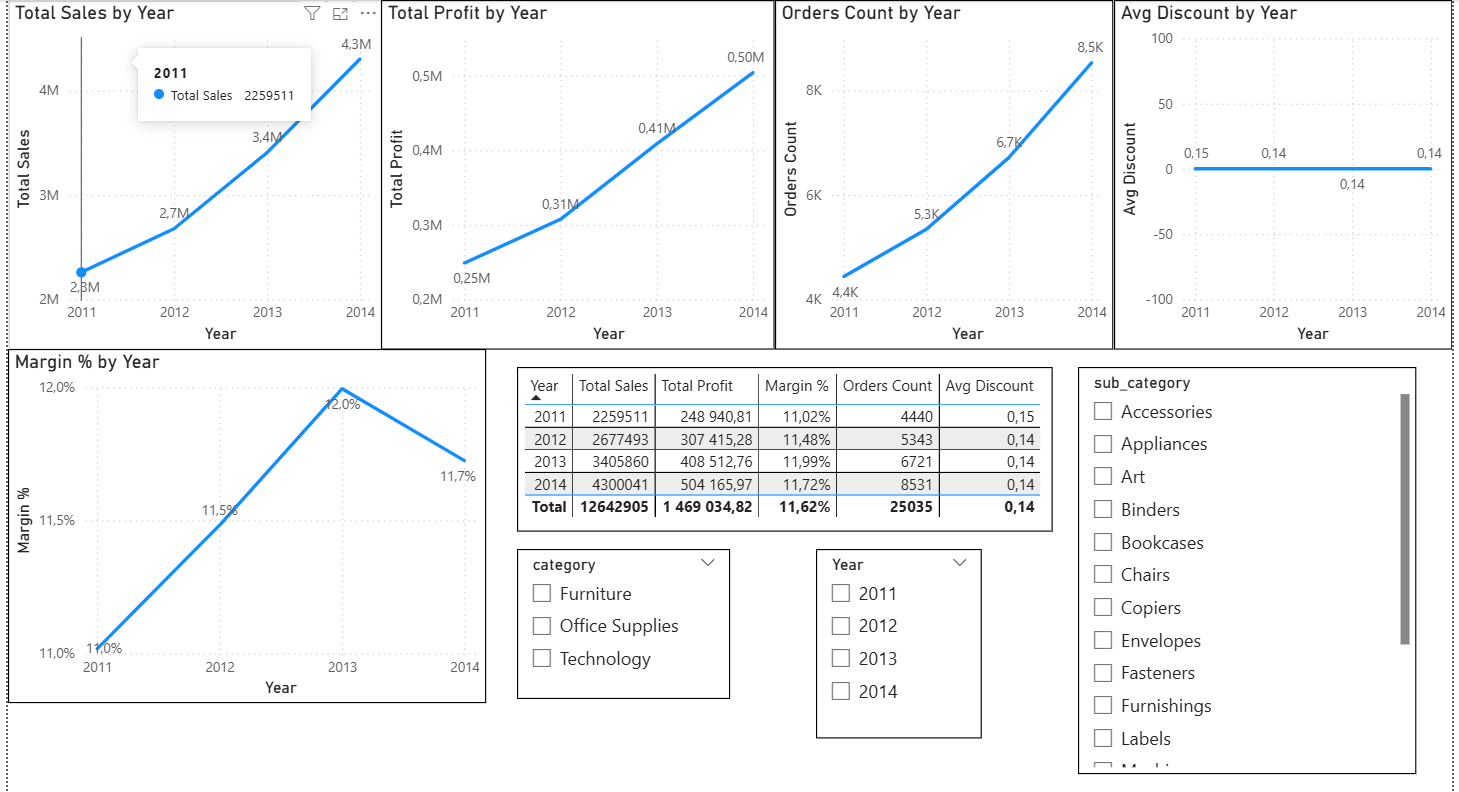

This screenshot's page, from the dashboard's own definition file:
{"tool":"powerbi","page":{"name":"Business Growth","canvas":[1280,720],"ordinal":11},"visuals":[{"type":"lineChart","fields":{"Category":["orders_view.order_date.Variation.Date Hierarchy.Year"],"Y":["orders_view.Total Sales"]},"box":[0,0,330.9,309.5],"z":0},{"type":"lineChart","fields":{"Category":["orders_view.order_date.Variation.Date Hierarchy.Year"],"Y":["orders_view.Total Profit"]},"box":[330.9,0,348.8,309.5],"z":1},{"type":"lineChart","fields":{"Category":["orders_view.order_date.Variation.Date Hierarchy.Year"],"Y":["orders_view.Orders Count"]},"box":[679.7,0,299.7,309.5],"z":2},{"type":"lineChart","fields":{"Category":["orders_view.order_date.Variation.Date Hierarchy.Year"],"Y":["orders_view.Avg Discount"]},"box":[980.3,0,299.7,309.5],"z":3},{"type":"lineChart","fields":{"Category":["orders_view.order_date.Variation.Date Hierarchy.Year"],"Y":["orders_view.Margin %"]},"box":[0,309.5,423.7,314],"z":4},{"type":"tableEx","fields":{"Values":["orders_view.order_date.Variation.Date Hierarchy.Year","orders_view.Total Sales","orders_view.Total Profit","orders_view.Margin %","orders_view.Orders Count","orders_view.Avg Discount"]},"box":[451.3,325.6,475.4,146.3],"z":5},{"type":"slicer","fields":{"Values":["orders_view.order_date.Variation.Date Hierarchy.Year"]},"box":[716.3,487,147.2,167.7],"z":6},{"type":"slicer","fields":{"Values":["orders_view.category"]},"box":[451.3,487,189.1,132.9],"z":7},{"type":"slicer","fields":{"Values":["orders_view.sub_category"]},"box":[949.1,325.6,299.7,361.3],"z":8}]}

Visuals, with their boxes in screenshot pixels (x1, y1, x2, y2):
lineChart - orders_view.order_date.Variation.Date Hierarchy.Year x orders_view.Total Sales: detection(8, 0, 379, 347)
lineChart - orders_view.order_date.Variation.Date Hierarchy.Year x orders_view.Total Profit: detection(379, 0, 770, 347)
lineChart - orders_view.order_date.Variation.Date Hierarchy.Year x orders_view.Orders Count: detection(770, 0, 1107, 347)
lineChart - orders_view.order_date.Variation.Date Hierarchy.Year x orders_view.Avg Discount: detection(1108, 0, 1444, 347)
lineChart - orders_view.order_date.Variation.Date Hierarchy.Year x orders_view.Margin %: detection(8, 347, 483, 700)
tableEx - orders_view.order_date.Variation.Date Hierarchy.Year x orders_view.Total Sales: detection(514, 365, 1048, 530)
slicer - orders_view.order_date.Variation.Date Hierarchy.Year: detection(811, 547, 977, 735)
slicer - orders_view.category: detection(514, 547, 726, 696)
slicer - orders_view.sub_category: detection(1073, 365, 1409, 771)
